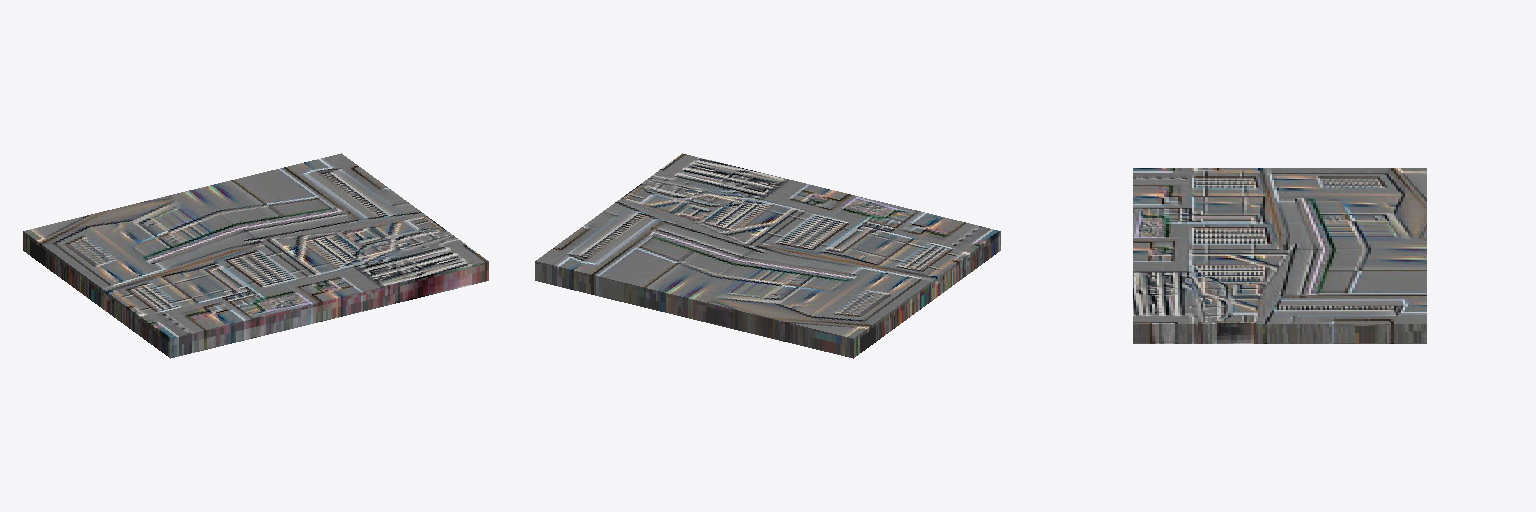
3 views of the same model, side by side, from view 1: azimuth 30°, elevation 25°; view 2: azimuth 150°, elevation 25°; view 3: azimuth 270°, elevation 25° (orthographic).
Visible parts, largest first — view 1: obj1; view 2: obj1; view 3: obj1.
Part boxes in pixels (x1,y1,x2,y2): obj1: (23, 153, 488, 358); obj1: (535, 153, 1000, 358); obj1: (1133, 168, 1426, 343).
Size of the model in its own units: 0.512 by 0.0307 by 0.41.
1 materials, 1 textured.